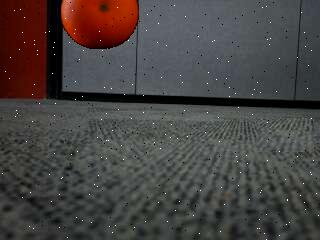Orange: (59, 0, 141, 50)
